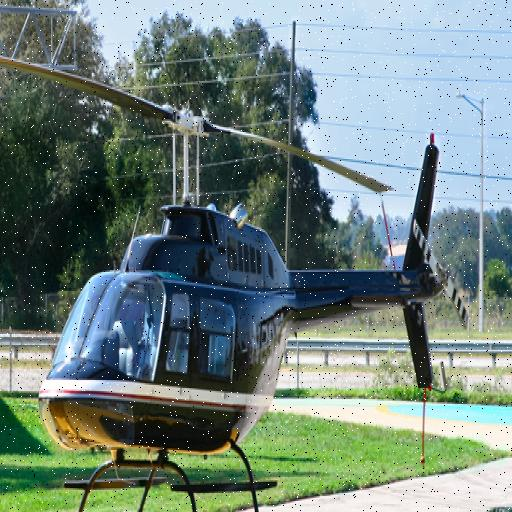helicopter: (1, 48, 456, 512)
